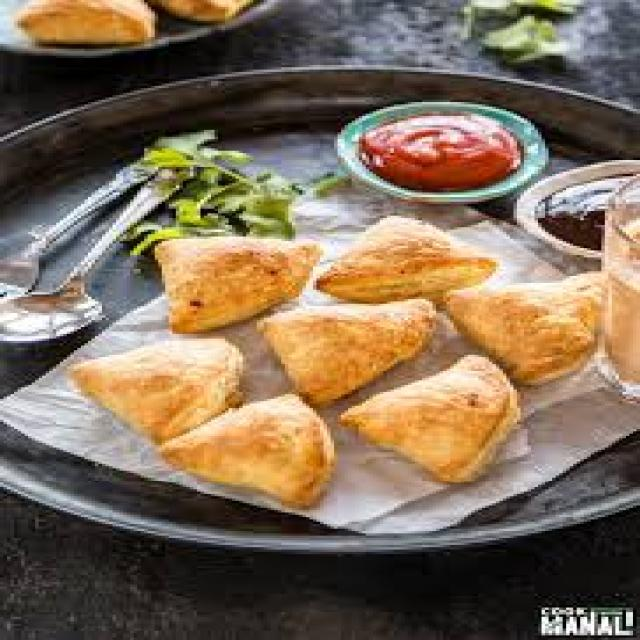SAMOSA: (327, 349, 525, 488), (145, 386, 343, 515), (433, 269, 617, 393), (251, 297, 441, 414), (59, 336, 252, 444), (300, 207, 510, 304), (142, 233, 329, 332)
